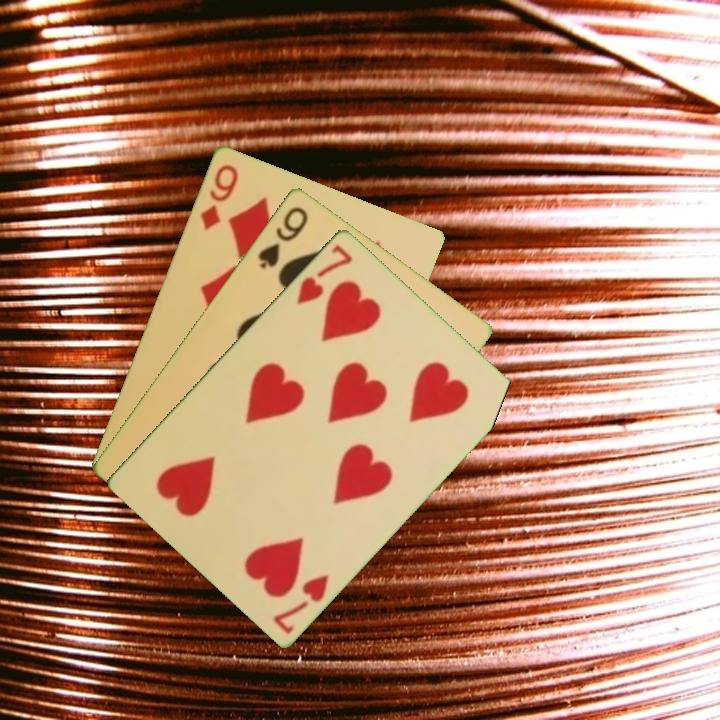7h: (293, 240, 356, 308), (269, 570, 332, 637)
9d: (196, 160, 241, 232)
9s: (253, 202, 311, 271)
